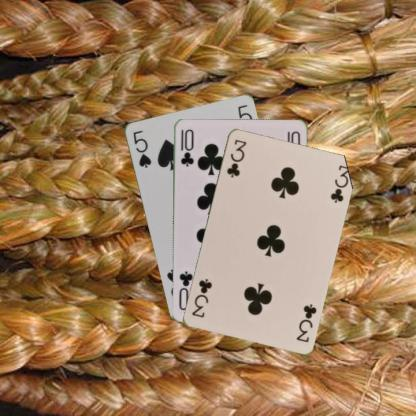10c: (178, 126, 195, 168)
3c: (293, 301, 318, 343), (224, 136, 247, 178)
5s: (130, 128, 153, 168)
